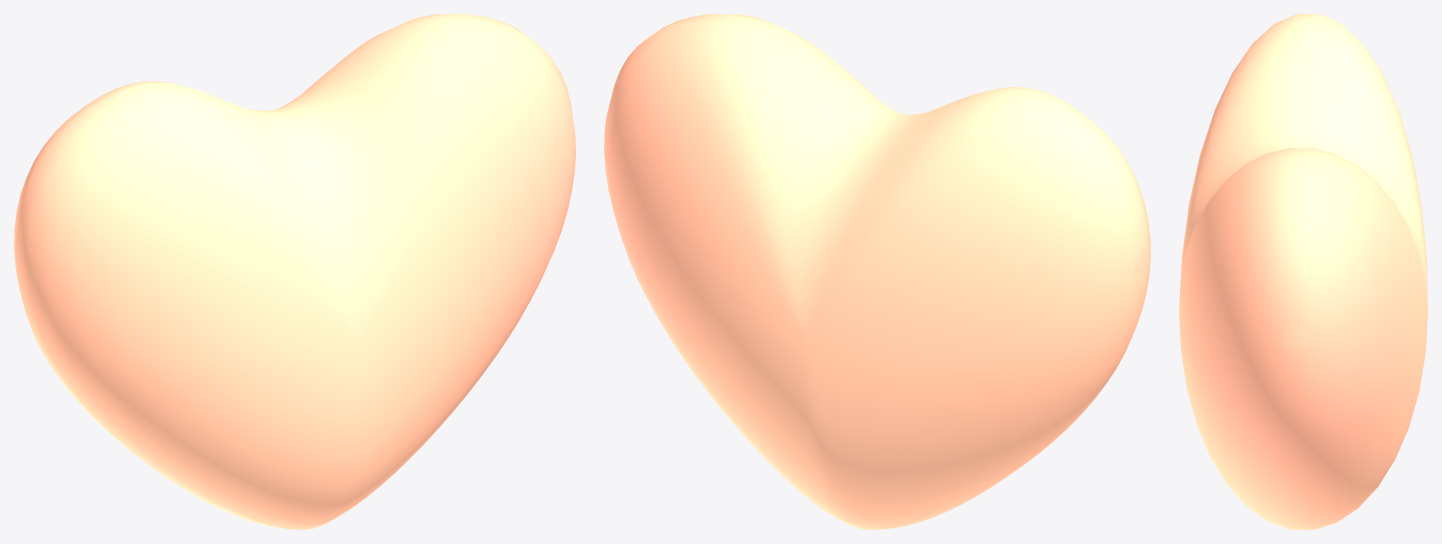
Rendered from heart-peach-balanced-v5.glb.
3 views of the same model, side by side, from view 1: azimuth 30°, elevation 25°; view 2: azimuth 150°, elevation 25°; view 3: azimuth 270°, elevation 25° (orthographic). The views are drawn at different scales.
Visible parts, largest first — view 1: Heart_Glass; view 2: Heart_Glass; view 3: Heart_Glass.
Boxes of the visible parts, x1,y1,x2,y2 form: Heart_Glass: (14, 14, 575, 529); Heart_Glass: (604, 14, 1150, 529); Heart_Glass: (1179, 14, 1427, 529).
Size of the model in its own units: 0.0801 by 0.0665 by 0.0347.
Materials: 1 (1 with a texture image).
